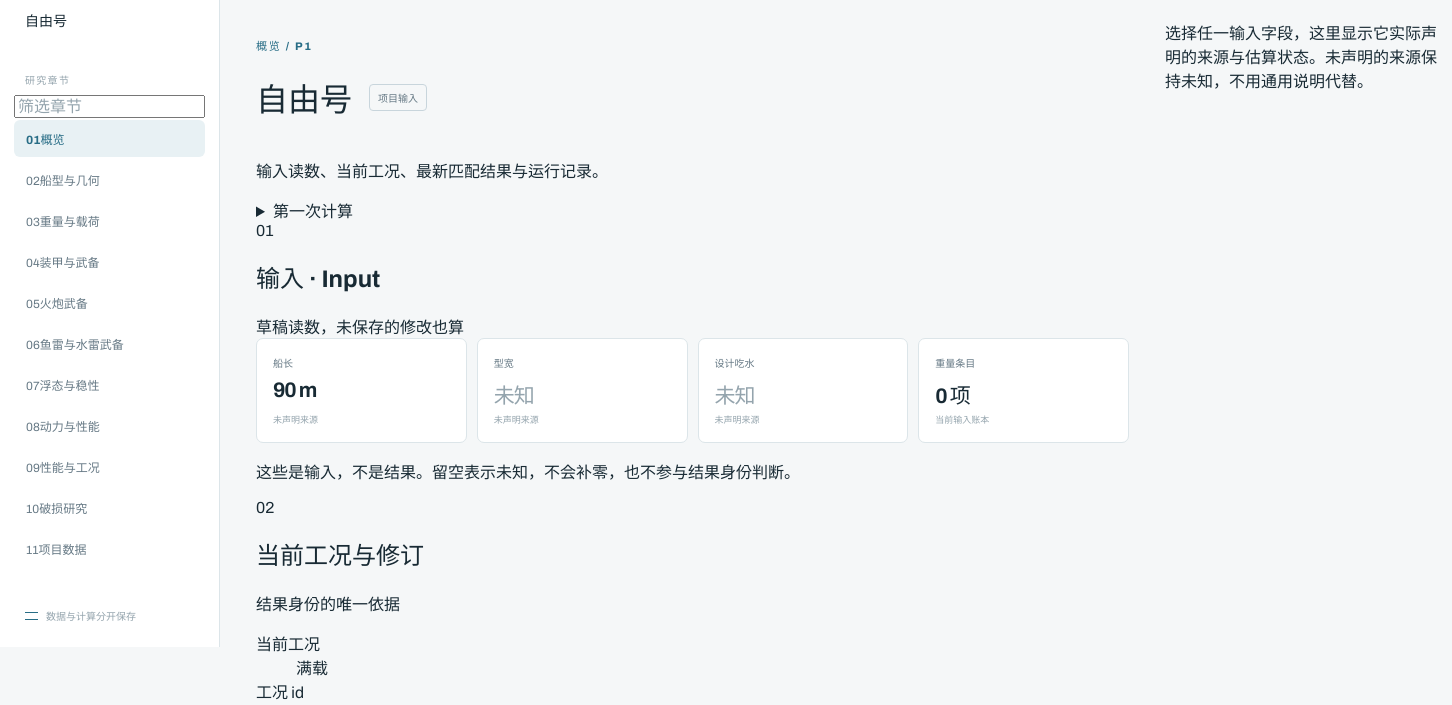
Test: deck freeboard form › renders the aggregate computed by the backend, not a local recomputation
The image size is (1452, 705).
Click the button "07浮态与稳性": (110, 384) [14,366,205,403]
(page scrolled)
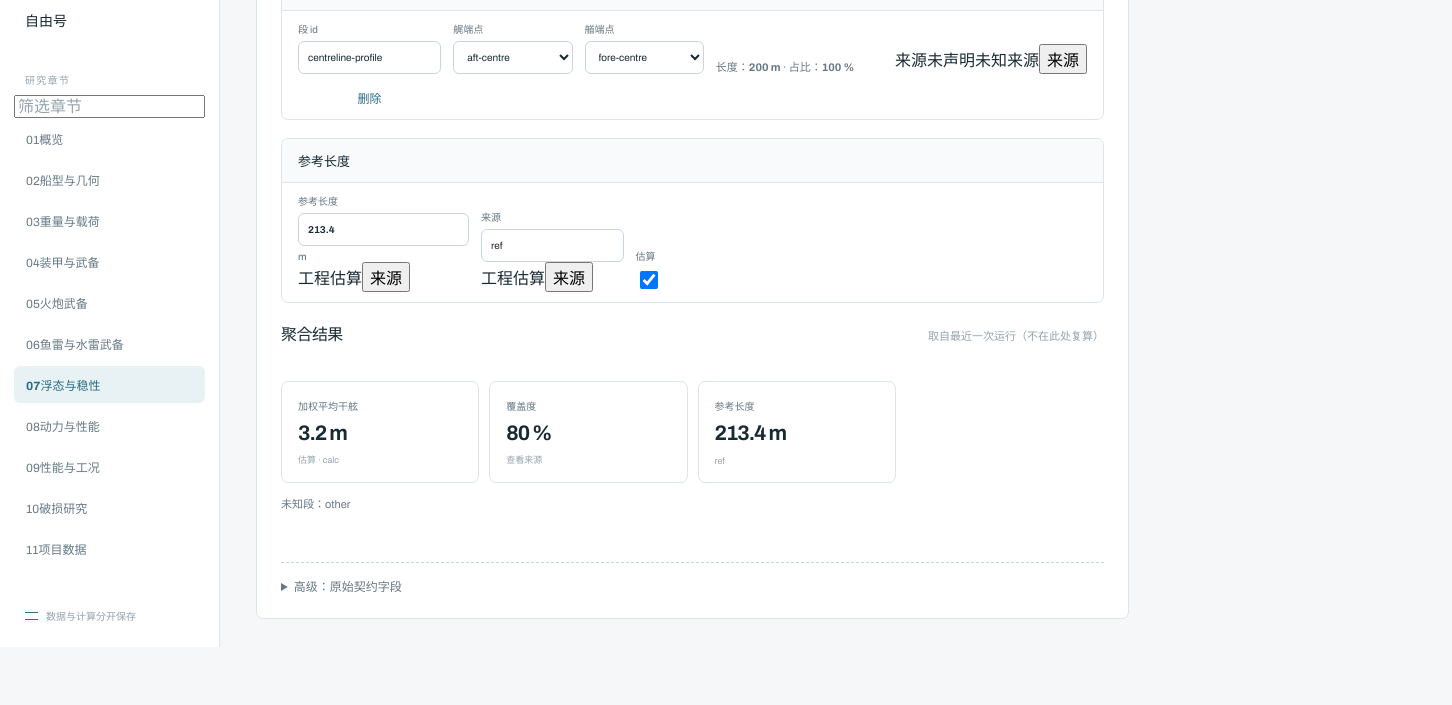
Result: the text "3.2 m" is shown at [298,422,347,444]
Result: the text "80 %" is shown at [506,422,552,444]
Result: the text "未知段：other" is shown at [281,498,350,510]
